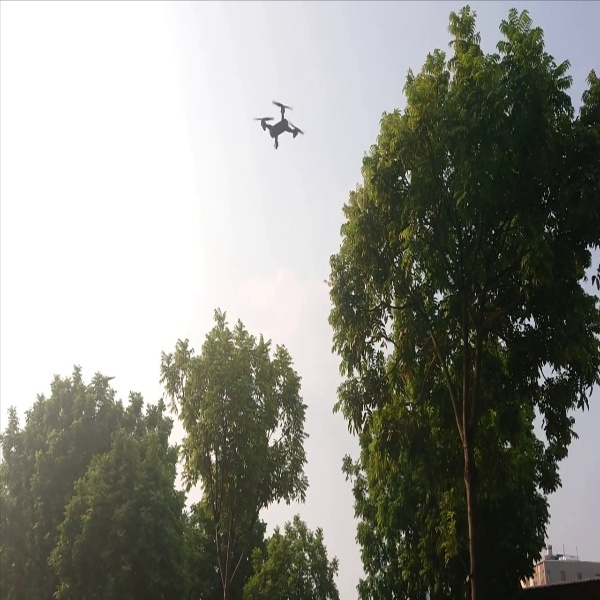drone: (250, 92, 308, 150)
